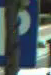Parking: (0, 1, 38, 74)
